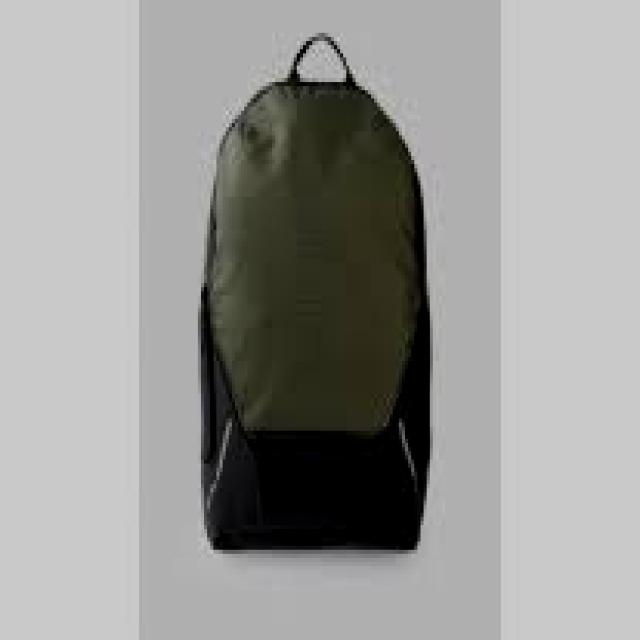backpack: (199, 30, 431, 551)
